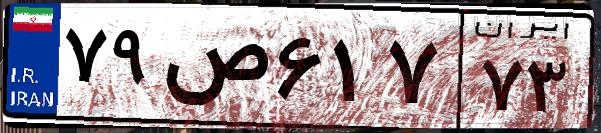1: (330, 28, 385, 110)
3: (525, 38, 570, 115)
6: (270, 28, 330, 110)
7: (385, 28, 445, 110), (57, 26, 110, 100), (475, 38, 525, 113)
9: (110, 28, 158, 98)
ص: (158, 20, 270, 120)
